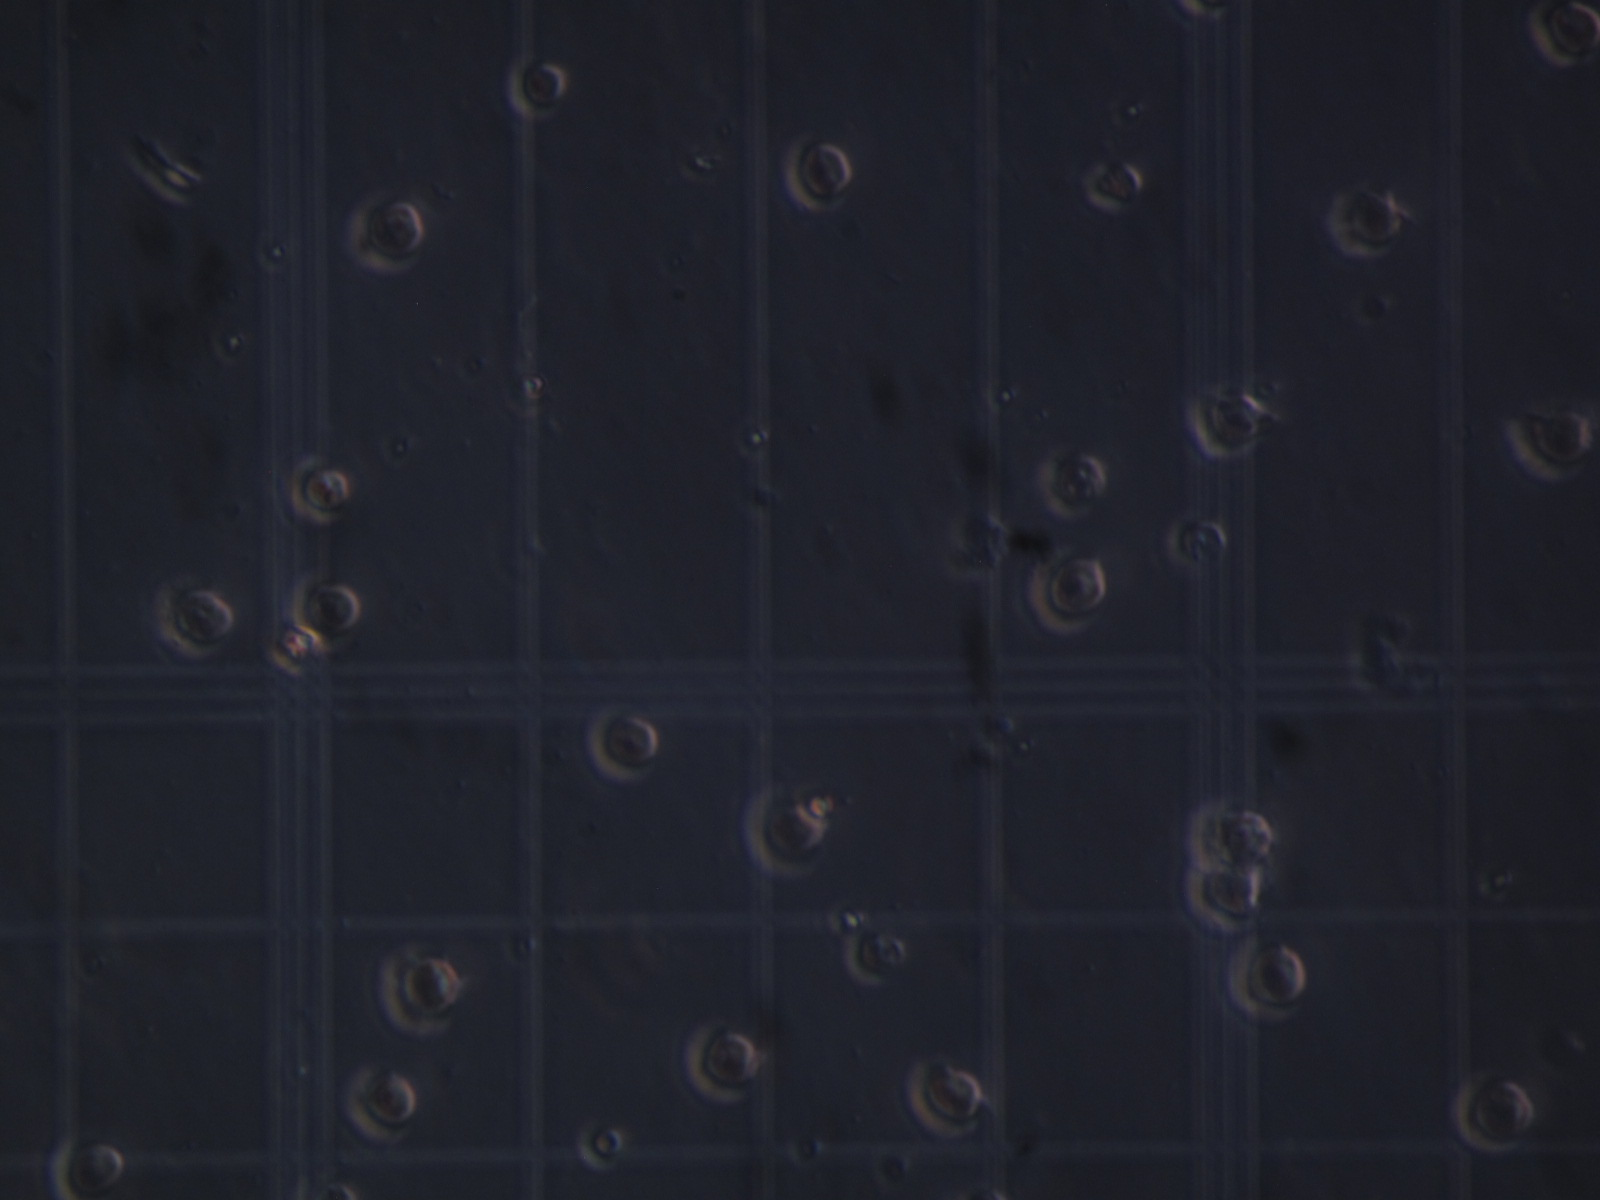hemo: (375, 938, 461, 1039), (745, 790, 826, 879), (1226, 934, 1305, 1025), (1453, 1069, 1531, 1156), (1508, 405, 1589, 488), (1031, 550, 1107, 633), (345, 195, 425, 274), (340, 1064, 414, 1145), (908, 1058, 981, 1139), (159, 579, 232, 661), (291, 568, 362, 652), (1189, 802, 1276, 868), (587, 707, 658, 787), (1327, 187, 1403, 258), (687, 1024, 755, 1103), (784, 134, 850, 214), (1186, 865, 1261, 932), (49, 1137, 123, 1200), (1038, 449, 1105, 518), (1528, 1, 1600, 66), (1192, 392, 1261, 458), (291, 454, 350, 524), (506, 55, 564, 120), (1165, 517, 1230, 572), (845, 930, 905, 989), (1083, 164, 1143, 217), (581, 1124, 624, 1174)
